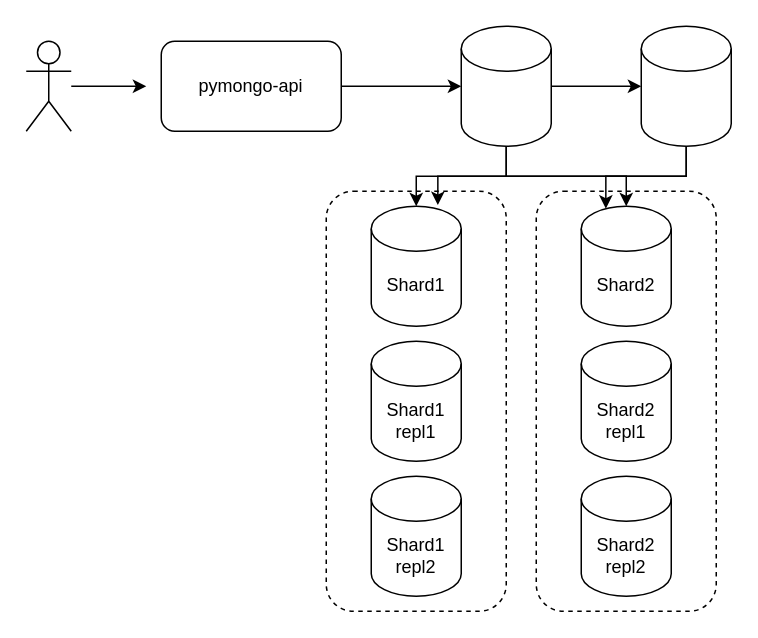
The diagram is 758 pixels wide and 638 high, and some of its shapes have lost their labels. Each missing label, with the centre of its shape:
"Actor" goes at (48,85).
"convig server" goes at (685,85).
"mongos router" goes at (505,85).
